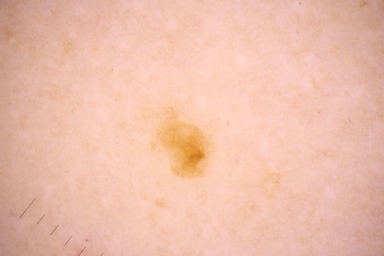melanoma: (158, 123, 209, 175)
